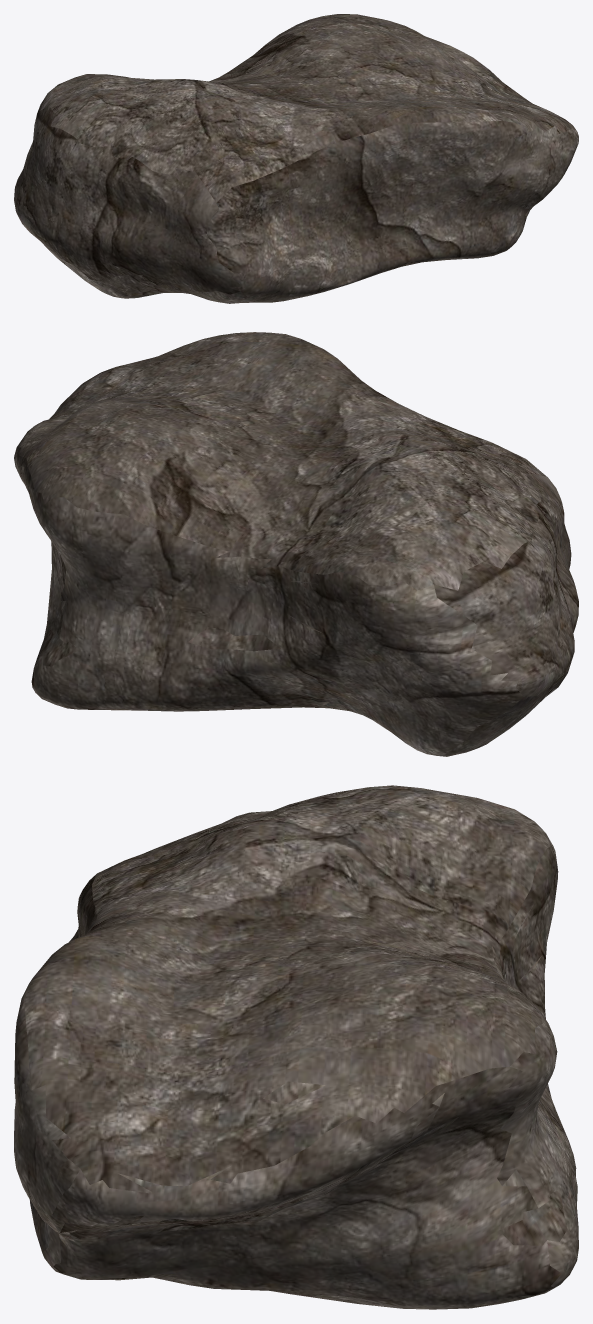
File: cascajo_rock_1.glb
The picture shows the model from 3 angles, top to bottom: view 1: azimuth 30°, elevation 25°; view 2: azimuth 150°, elevation 25°; view 3: azimuth 270°, elevation 25°; orthographic projection. The views are drawn at different scales.
Visible parts, largest first — view 1: rock_1; view 2: rock_1; view 3: rock_1.
Boxes of the visible parts, x1=… form: rock_1: x1=14, y1=14, x2=578, y2=303; rock_1: x1=14, y1=332, x2=578, y2=756; rock_1: x1=14, y1=785, x2=578, y2=1309.
Bounding box in the file's own units: 1 × 0.4151 × 0.6554.
1 material, 1 textured.
